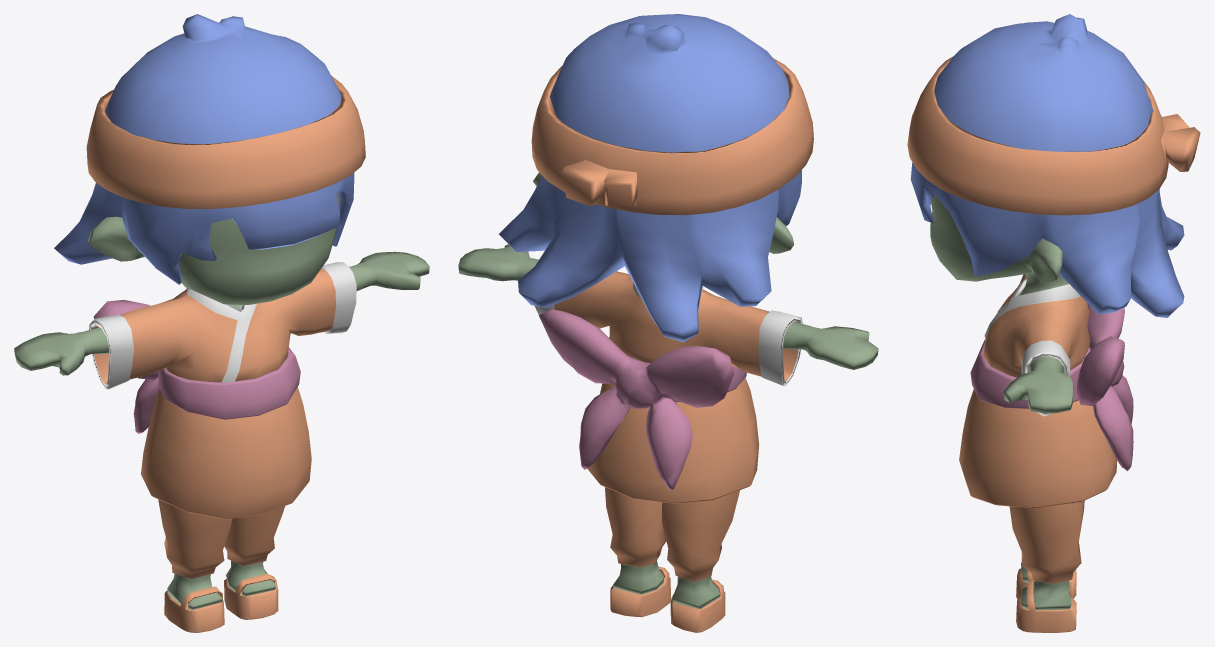
Rendered from MP_SM_Ch_Momo_Mod_v01.fbx.
3 renders of one model, left to right at view 1: azimuth 30°, elevation 25°; view 2: azimuth 150°, elevation 25°; view 3: azimuth 270°, elevation 25°, orthographic.
Visible parts, largest first — view 1: geo_x_hair, geo_x_band, geo_x_tshirt, geo_x_body, geo_x_skirt, geo_x_belt, geo_r_pants, geo_l_pants, geo_r_shoes, geo_l_shoes, geo_x_lazo; view 2: geo_x_hair, geo_x_band, geo_x_lazo, geo_x_skirt, geo_x_tshirt, geo_x_body, geo_r_pants, geo_l_pants, geo_l_shoes, geo_r_shoes; view 3: geo_x_hair, geo_x_band, geo_x_skirt, geo_x_body, geo_x_tshirt, geo_x_lazo, geo_l_pants, geo_x_belt, geo_l_shoes, geo_r_shoes.
Boxes of the visible parts, <box> form: geo_x_hair: <box>54,14,354,284</box>; geo_x_band: <box>86,76,365,208</box>; geo_x_tshirt: <box>89,262,356,389</box>; geo_x_body: <box>14,193,429,609</box>; geo_x_skirt: <box>141,387,311,519</box>; geo_x_belt: <box>158,347,300,419</box>; geo_r_pants: <box>158,499,231,579</box>; geo_l_pants: <box>224,506,284,565</box>; geo_r_shoes: <box>164,586,224,632</box>; geo_l_shoes: <box>224,573,278,619</box>; geo_x_lazo: <box>93,300,158,433</box>; geo_x_hair: <box>499,14,801,342</box>; geo_x_band: <box>531,58,813,215</box>; geo_x_lazo: <box>538,309,734,490</box>; geo_x_skirt: <box>587,378,759,503</box>; geo_x_tshirt: <box>534,271,802,386</box>; geo_x_body: <box>458,172,878,609</box>; geo_r_pants: <box>662,490,739,581</box>; geo_l_pants: <box>605,487,666,567</box>; geo_l_shoes: <box>610,566,671,617</box>; geo_r_shoes: <box>670,579,725,632</box>; geo_x_hair: <box>910,14,1184,317</box>; geo_x_band: <box>907,56,1200,215</box>; geo_x_skirt: <box>959,364,1116,508</box>; geo_x_body: <box>930,195,1073,610</box>; geo_x_tshirt: <box>983,274,1090,416</box>; geo_x_lazo: <box>1076,303,1133,471</box>; geo_l_pants: <box>1009,500,1084,583</box>; geo_x_belt: <box>970,340,1090,408</box>; geo_l_shoes: <box>1016,581,1076,632</box>; geo_r_shoes: <box>1016,568,1076,599</box>.
Bounding box in the file's own units: 261 × 366 × 165.
